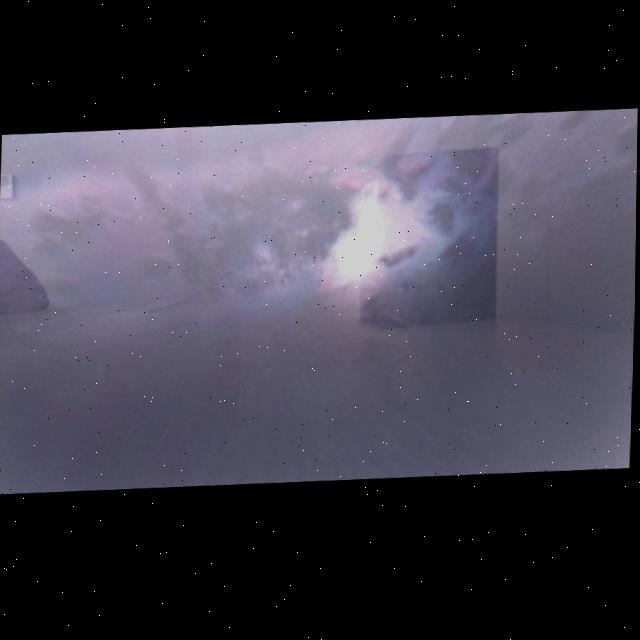E: (363, 191, 374, 247)
